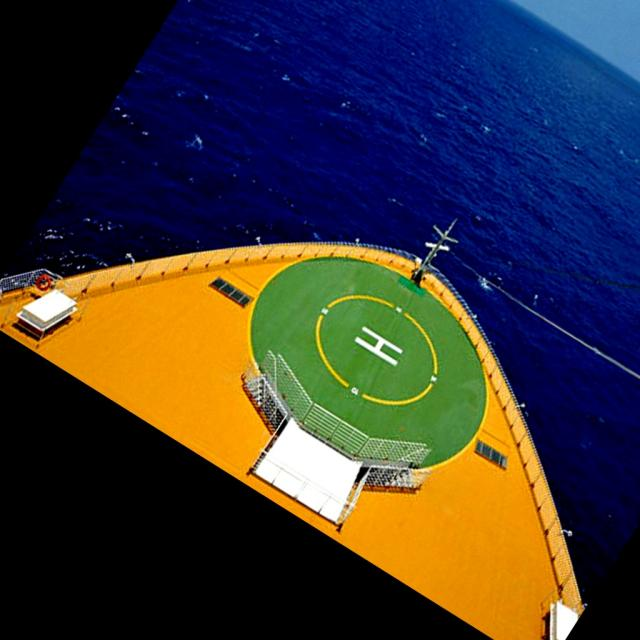helipad: (314, 290, 439, 408)
